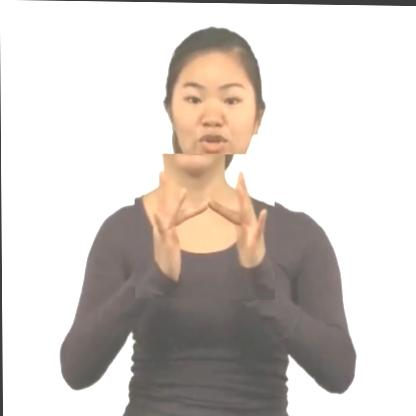Internet: (134, 153, 275, 299)
